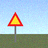sign: (7, 12, 23, 42)
